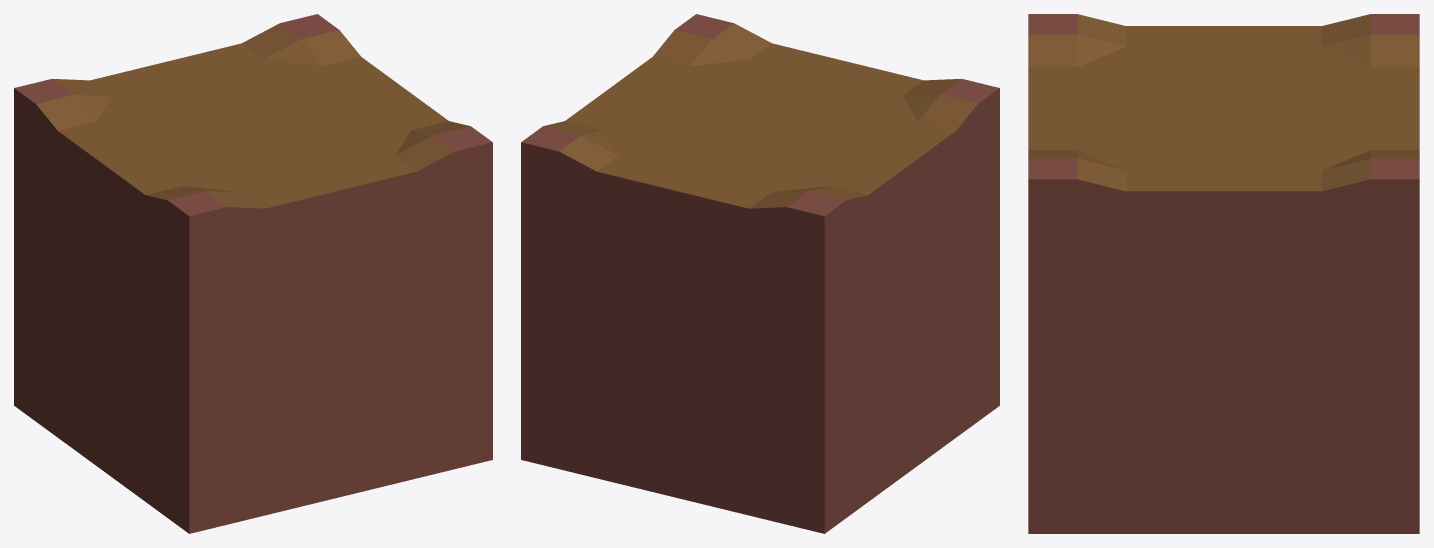
File: Dirt_Path_4_Way_Junction.glb
The picture shows the model from 3 angles, left to right: view 1: azimuth 30°, elevation 25°; view 2: azimuth 150°, elevation 25°; view 3: azimuth 270°, elevation 25°; orthographic projection. The views are drawn at different scales.
Visible parts, largest first — view 1: Dirt Path 4 Way Junction; view 2: Dirt Path 4 Way Junction; view 3: Dirt Path 4 Way Junction.
Part boxes in pixels (x1,y1,x2,y2): Dirt Path 4 Way Junction: (14, 14, 492, 533); Dirt Path 4 Way Junction: (521, 14, 999, 533); Dirt Path 4 Way Junction: (1028, 14, 1419, 533).
Bounding box in the file's own units: 2 × 2 × 2.
1 material, 1 textured.
